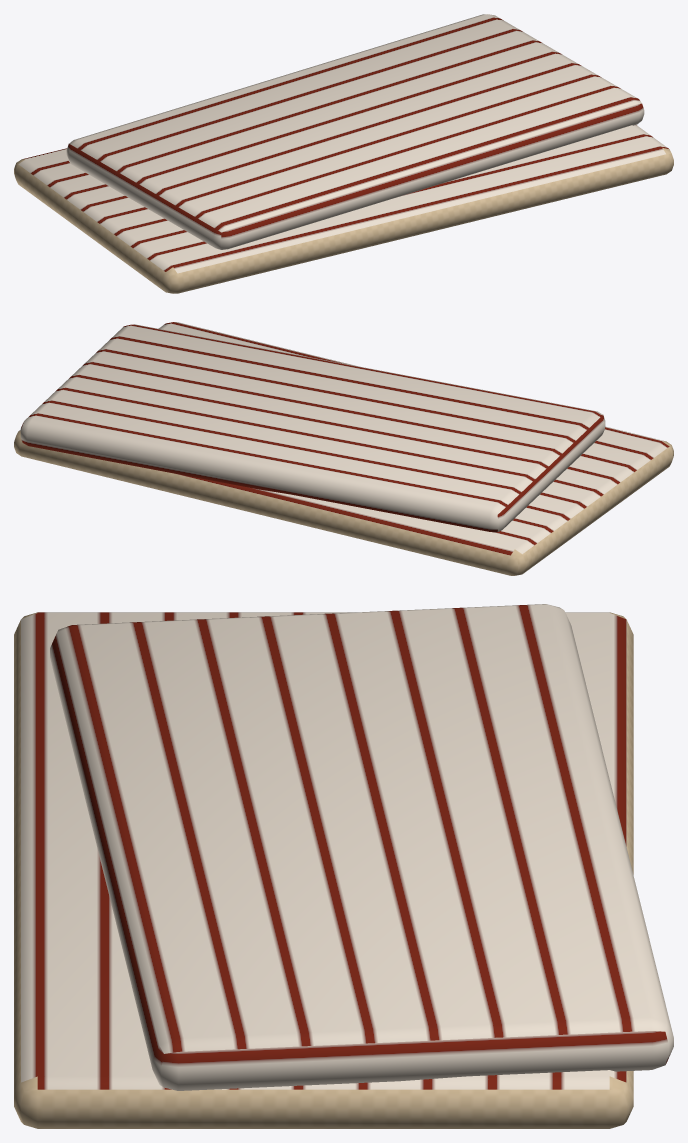
Rendered from modern_blanket_02.glb.
The picture shows the model from 3 angles, top to bottom: view 1: azimuth 30°, elevation 25°; view 2: azimuth 150°, elevation 25°; view 3: azimuth 270°, elevation 25°; orthographic projection. The views are drawn at different scales.
Visible parts, largest first — view 1: modern_blanket_02; view 2: modern_blanket_02; view 3: modern_blanket_02.
Part boxes in pixels (x1,y1,x2,y2): modern_blanket_02: (14, 14, 673, 293); modern_blanket_02: (14, 322, 673, 575); modern_blanket_02: (14, 604, 673, 1128).
Bounding box in the file's own units: 1.21 × 0.11 × 0.6923.
Materials: 2 (2 with a texture image).
